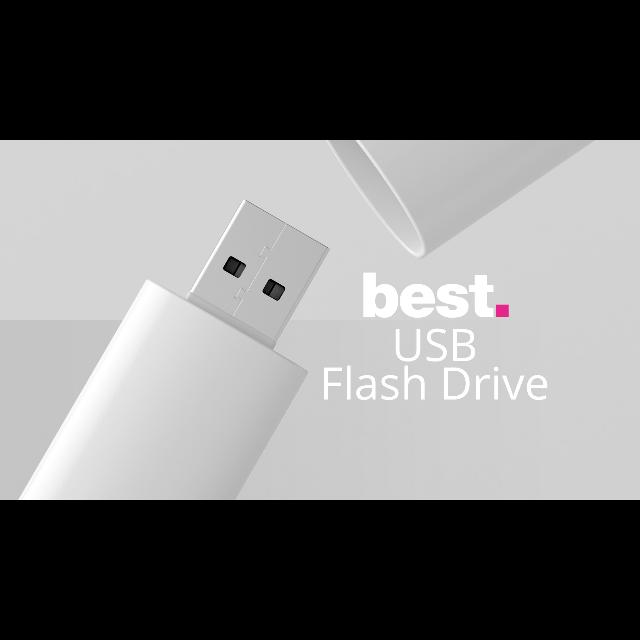USB-Flash-Drive: (17, 200, 329, 500)
